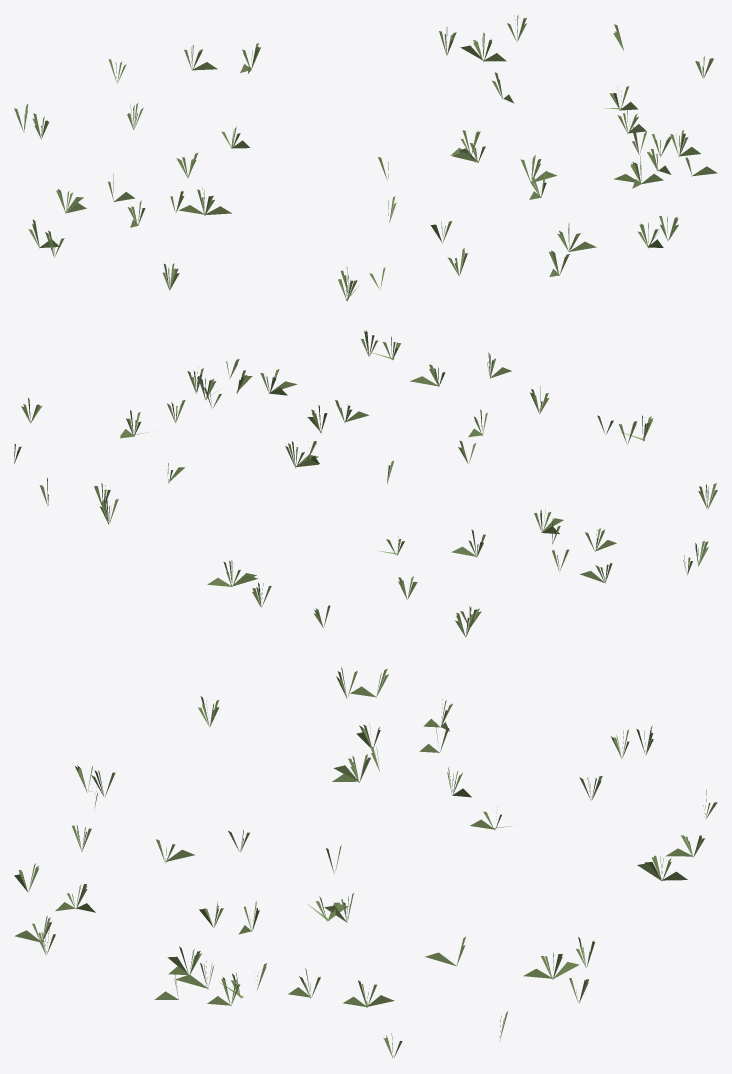
File: teaching3-vegetation-19-far.glb
3 views of the same model, one above another, from view 1: azimuth 30°, elevation 25°; view 2: azimuth 150°, elevation 25°; view 3: azimuth 270°, elevation 25° (orthographic). The views are drawn at different scales.
Visible parts, largest first — view 1: mondo grass.002; view 2: mondo grass.002; view 3: mondo grass.002.
Part boxes in pixels (bbox=[...]): mondo grass.002: bbox=[14, 15, 717, 300]; mondo grass.002: bbox=[14, 330, 717, 637]; mondo grass.002: bbox=[14, 667, 717, 1058].
Bounding box in the file's own units: 13.05 × 0.4845 × 10.49.
